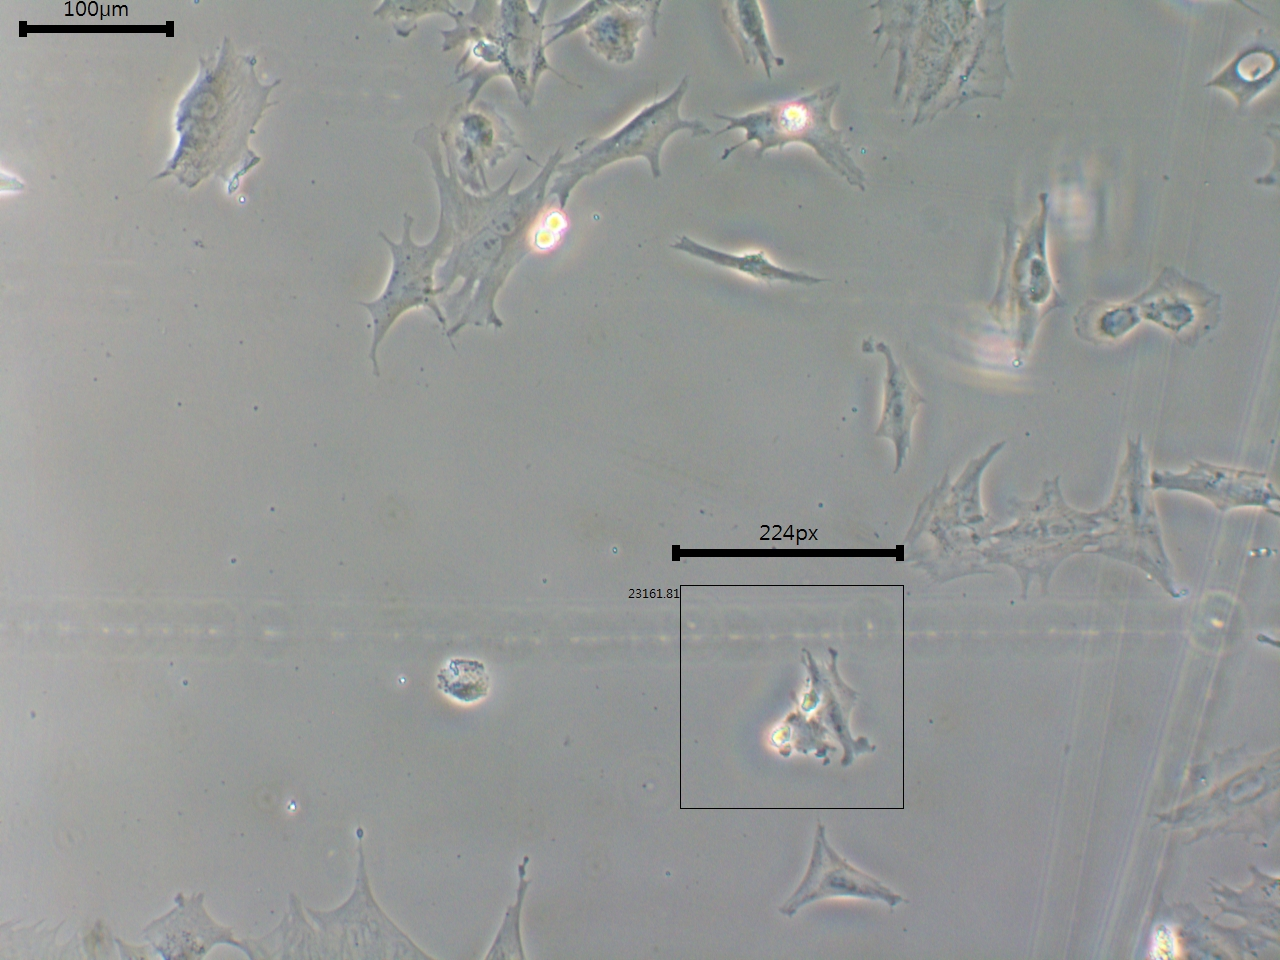medium-polygonal: (775, 814, 922, 936)
medium-spread: (989, 477, 1103, 603)
small-spread: (426, 646, 500, 725)
